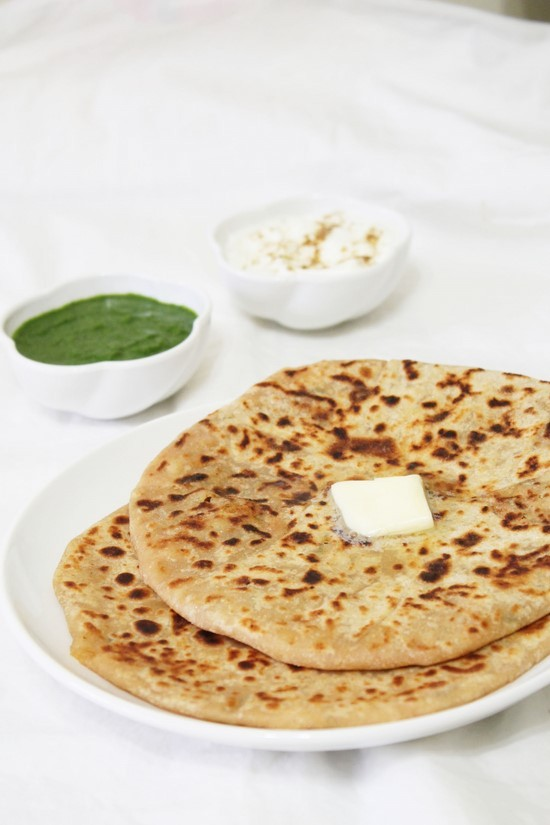aloo_paratha: (55, 351, 550, 731)
